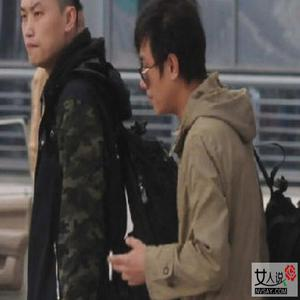cigarette: (108, 251, 113, 282)
